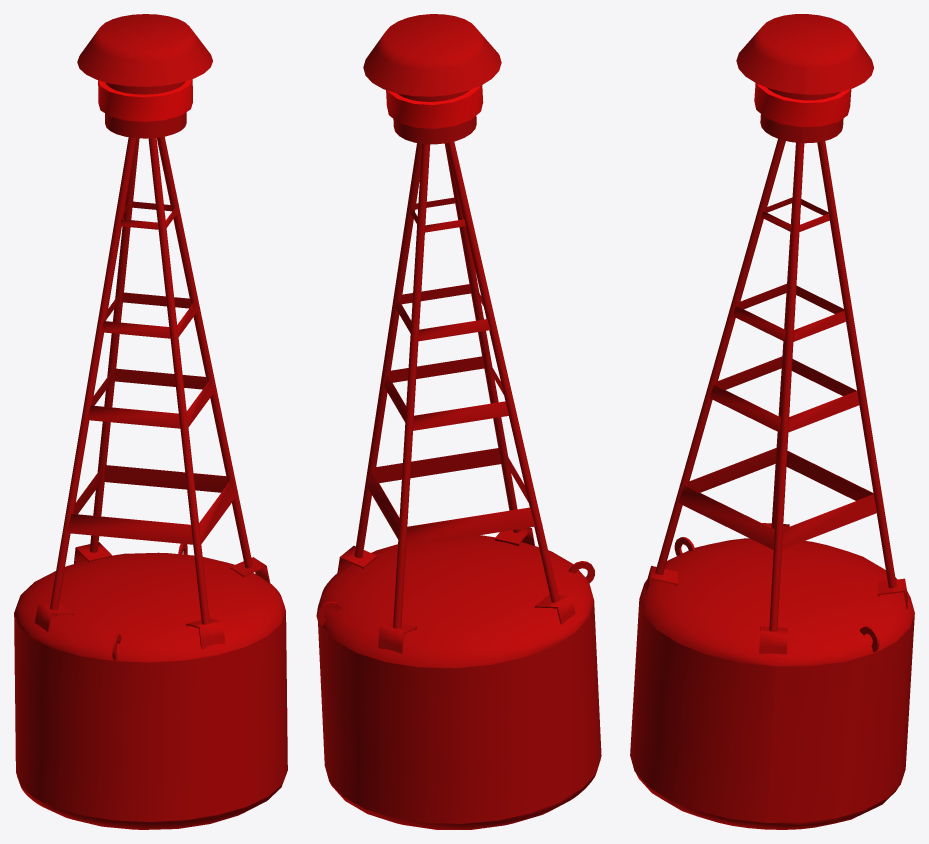
File: buoy.glb
3 views of the same model, side by side, from view 1: azimuth 30°, elevation 25°; view 2: azimuth 150°, elevation 25°; view 3: azimuth 270°, elevation 25° (orthographic).
Parts seen in each view (by area): view 1: Material1-material, Material0-material; view 2: Material1-material, Material0-material; view 3: Material1-material, Material0-material.
Part boxes in pixels (box(x1,y1,x2,y2)): Material1-material: box(14, 14, 287, 829); Material0-material: box(98, 79, 192, 121); Material1-material: box(316, 14, 601, 829); Material0-material: box(386, 85, 483, 128); Material1-material: box(630, 14, 914, 829); Material0-material: box(754, 83, 851, 127).
Bounding box in the file's own units: 1.01 × 3.07 × 1.03.
